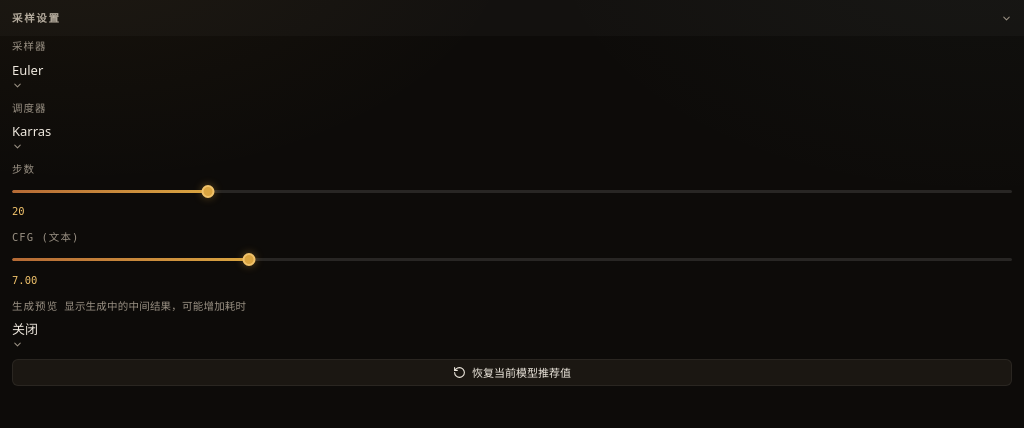
Scenario: SamplingPanel 生成预览（上游 #2093） › 当前模式不受支持时显示关闭，不把旧值补为可选项
Click the dropdown named "生成预览" at [25, 335], box [12,319,38,350]
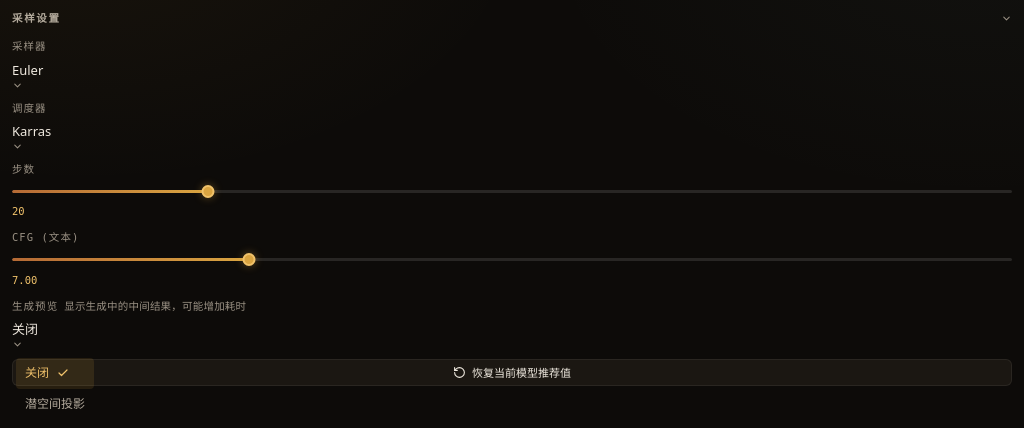
expect the option "潜空间投影" is shown: met, box [25,395,85,412]
